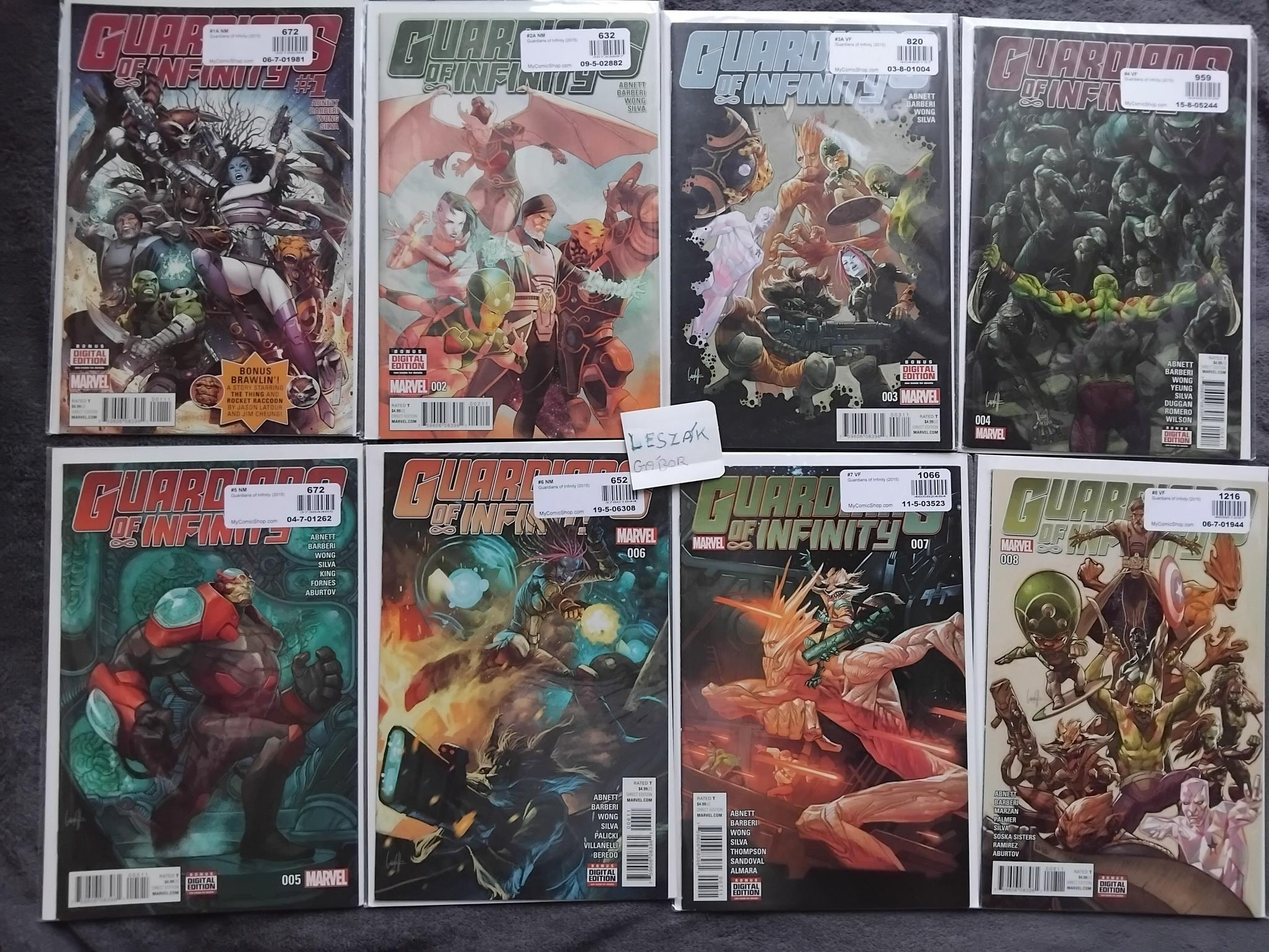comic: (43, 443, 363, 920), (366, 442, 670, 904), (49, 0, 366, 438), (971, 456, 1269, 916), (674, 454, 974, 910), (364, 0, 661, 439), (959, 19, 1255, 459), (664, 12, 955, 450)
